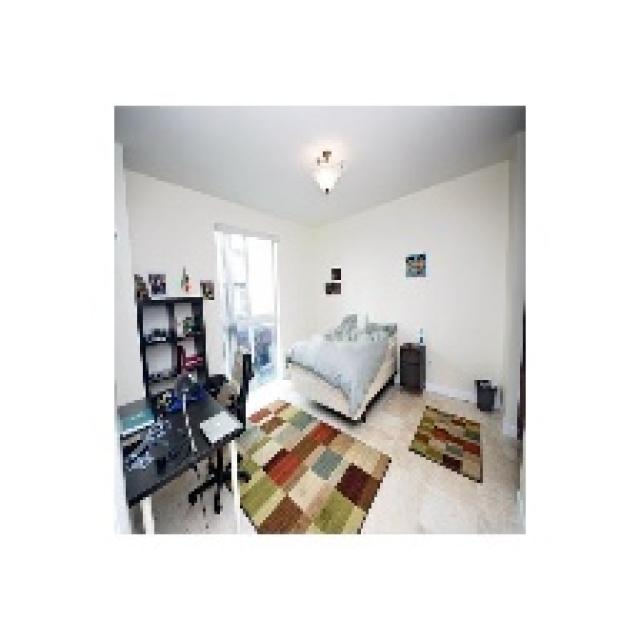Bed: (283, 314, 397, 423)
